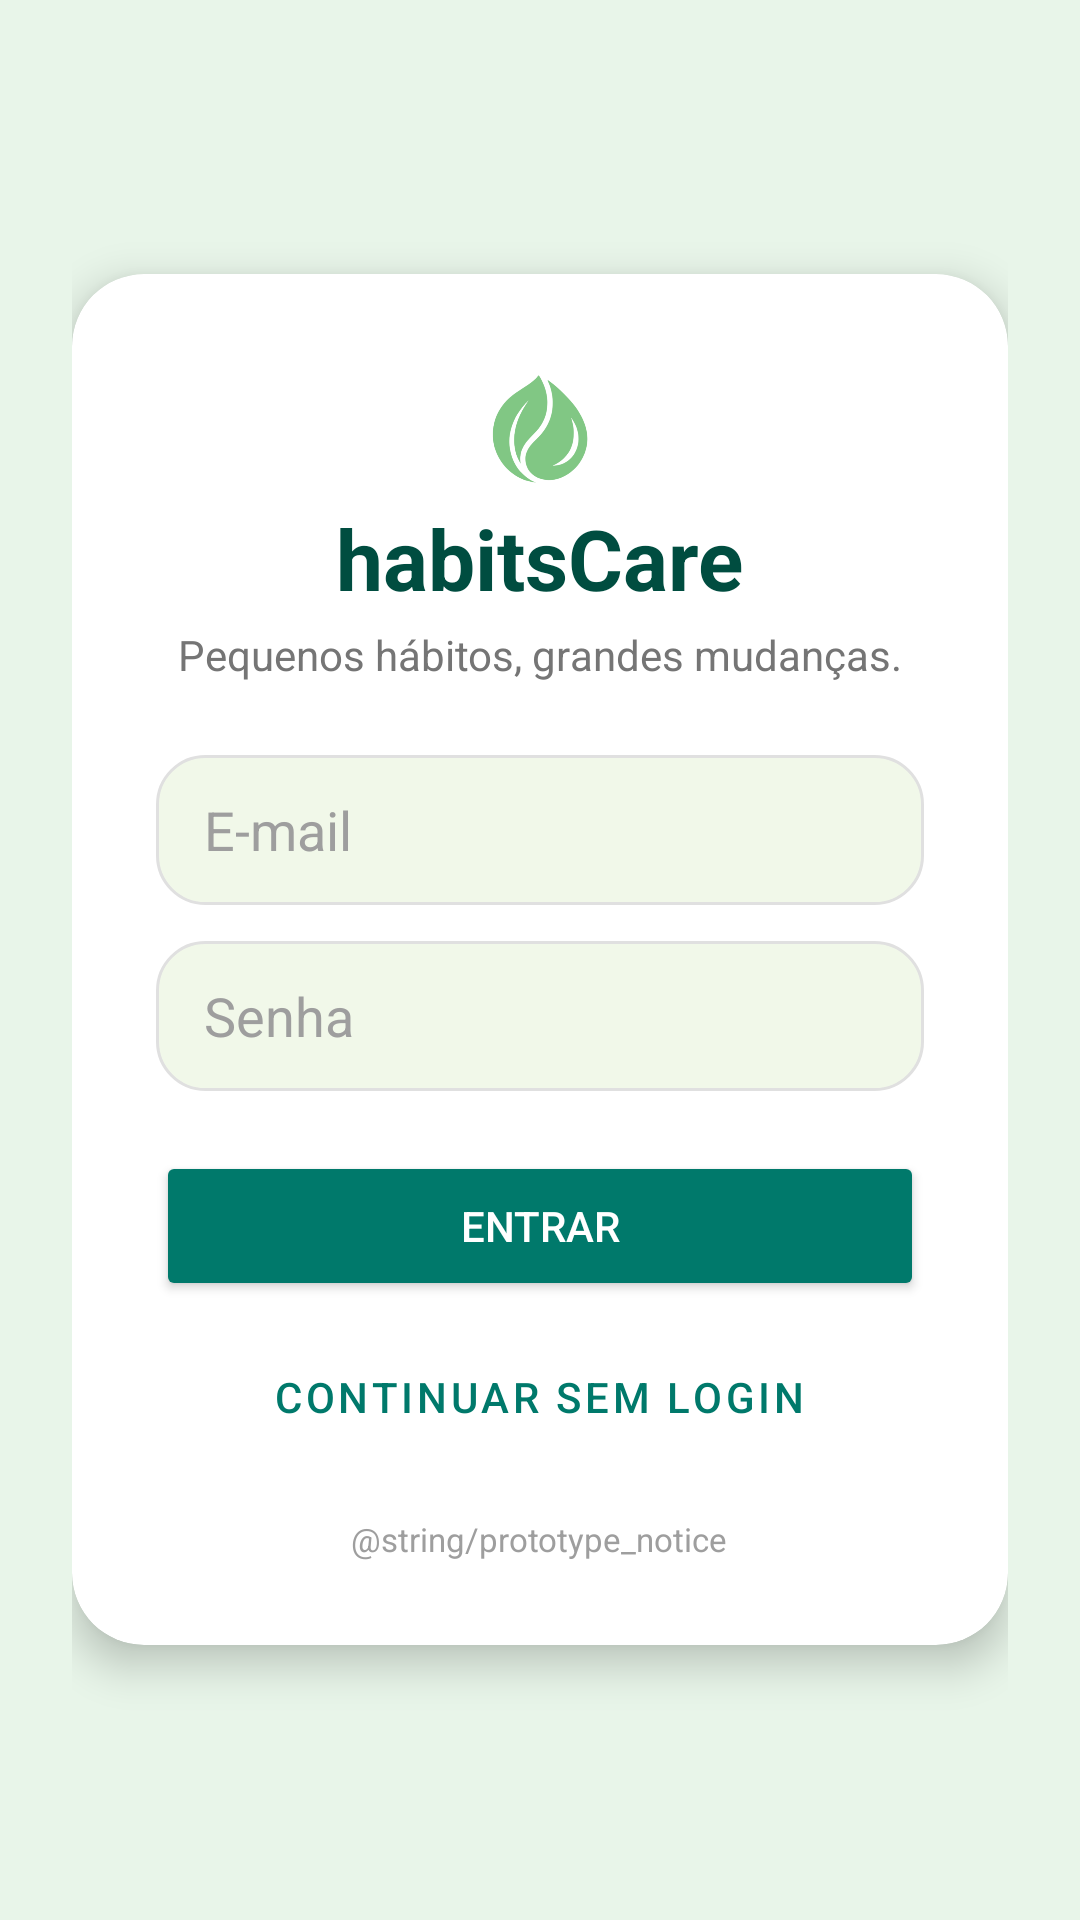

Icons on this 1080 x 1920 Android screen, each with its box as (x1, y1, x2, y2):
leaf: (493, 375, 588, 483)
